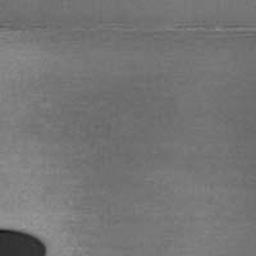Punching: (0, 229, 47, 256)
